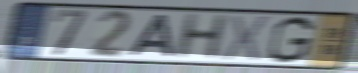2: (87, 9, 134, 59)
7: (50, 9, 91, 58)
A: (126, 13, 176, 60)
G: (266, 15, 317, 65)
H: (171, 12, 232, 61)
X: (220, 13, 273, 64)
